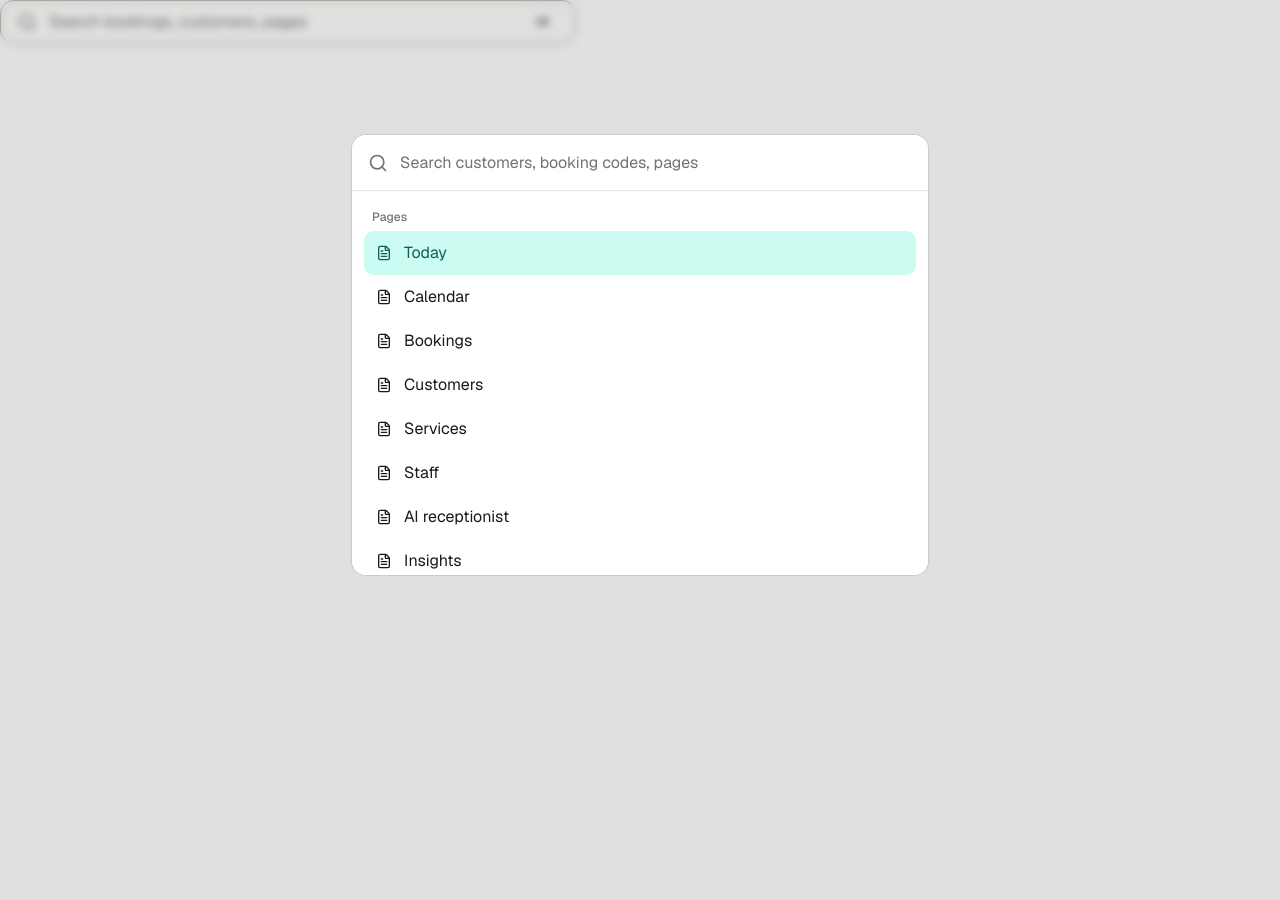
it: CommandPalette › says so when the search fails, instead of 'Nothing matches'
Earlier steps of the test are not shown.
Type "ana" into the dropdown at [656, 162], box [400,135,912,190]
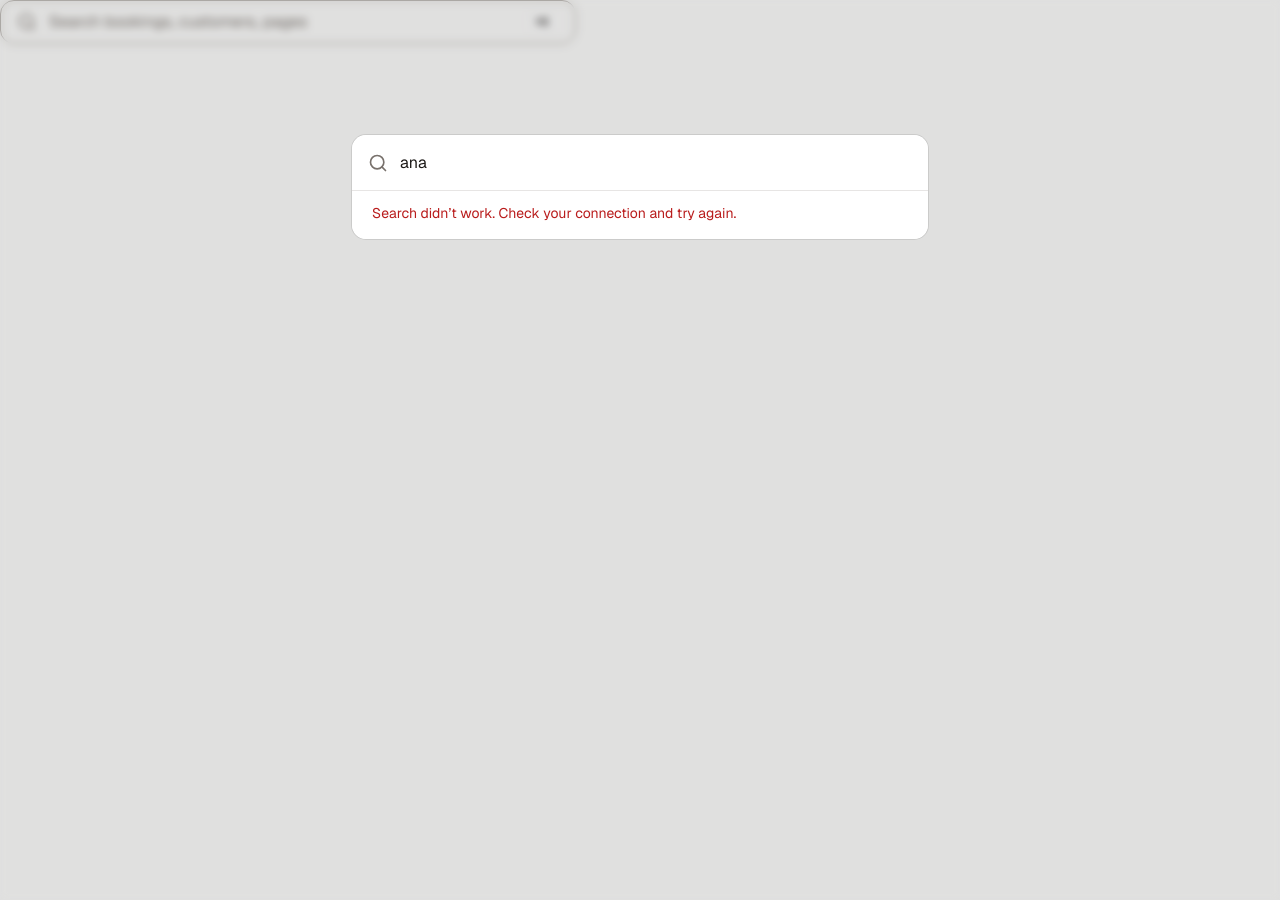
Expected: the text "Search didn’t work. Check your connection and try again." is shown, [372,204,736,222]
